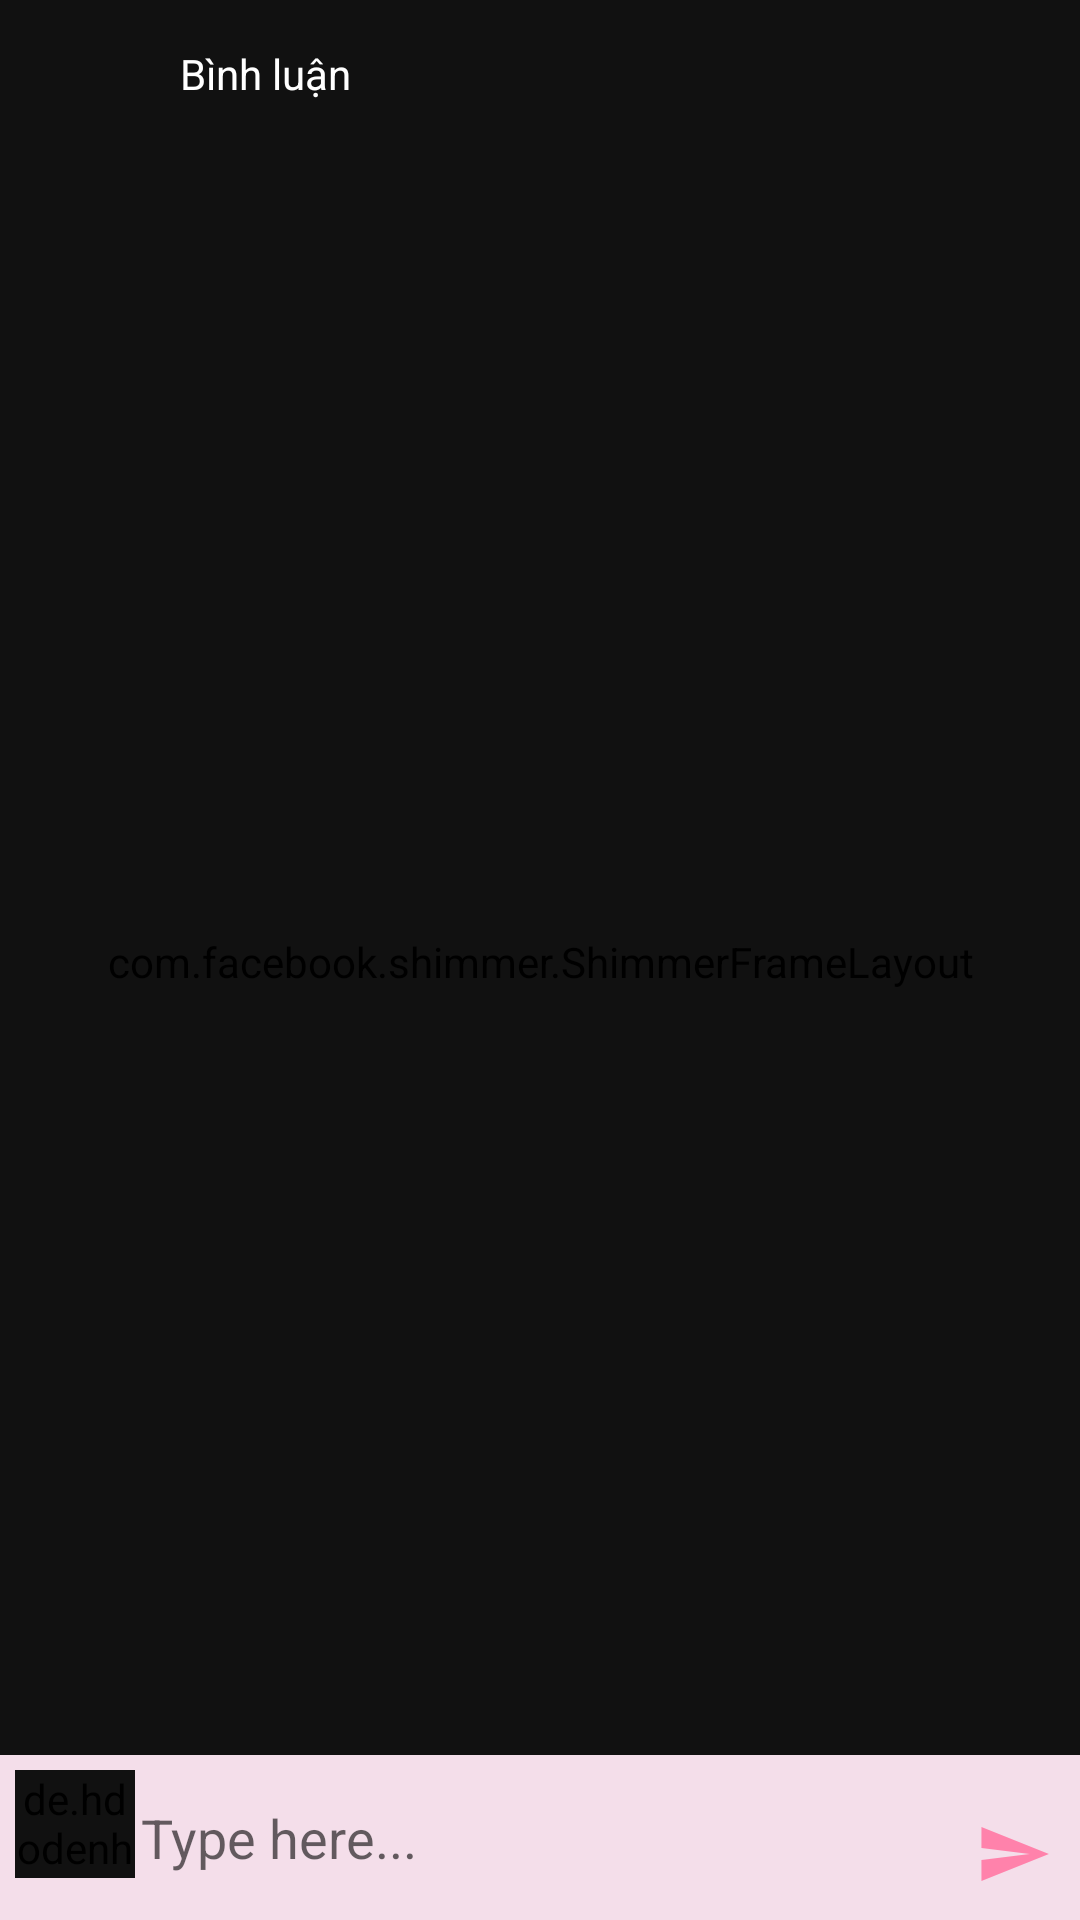

Point at icon controls on the screen. Image size 1080 × 1920, points as (x,y).
send: (1014,1854)
